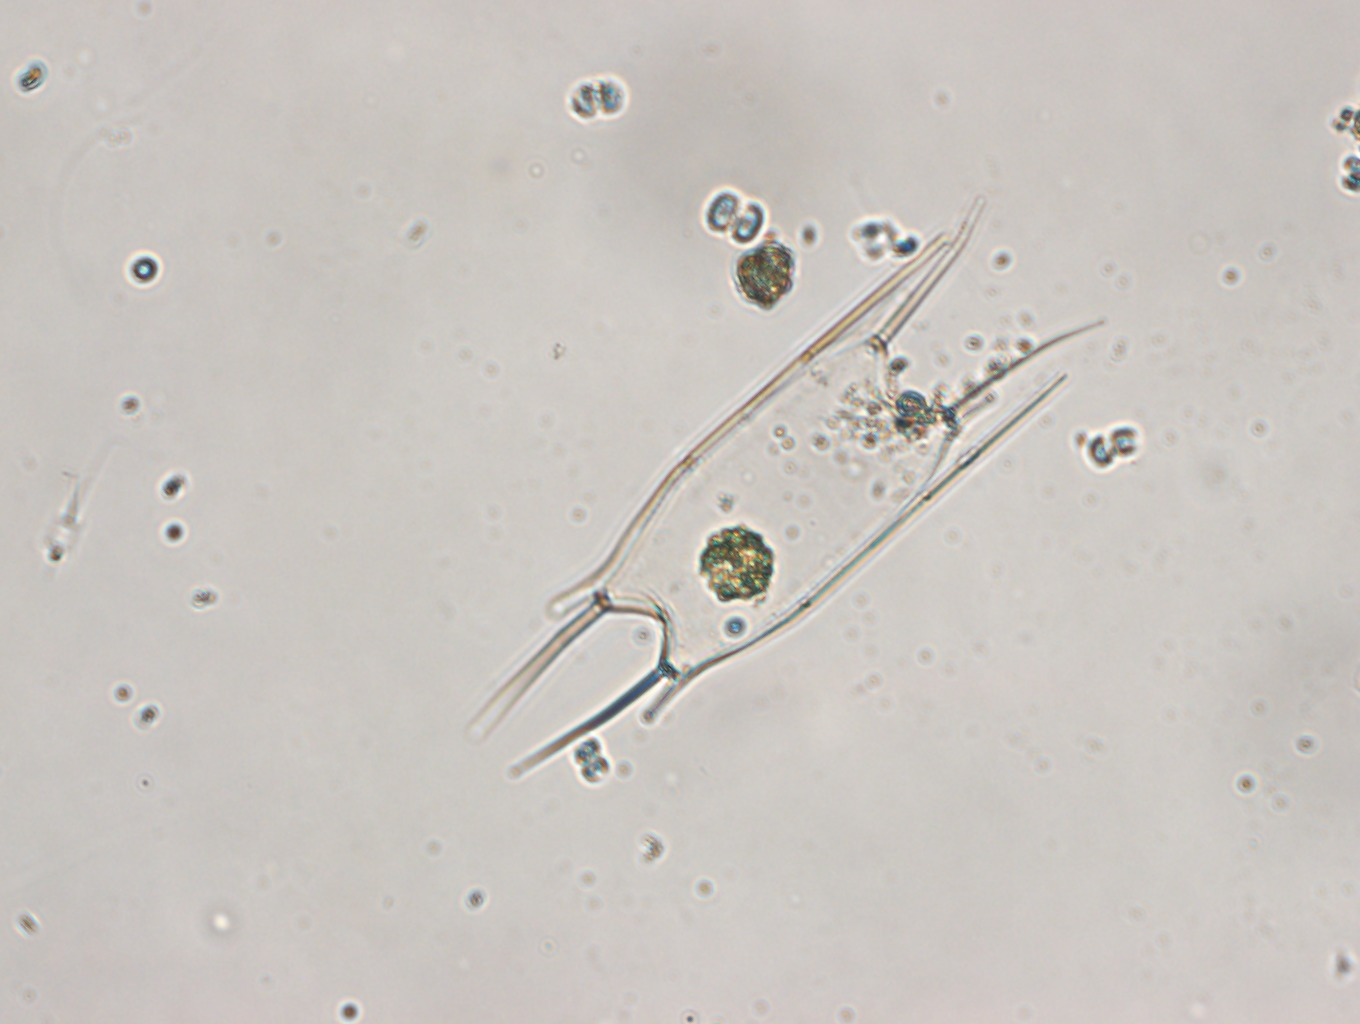biddulphia: (471, 215, 1096, 772)
